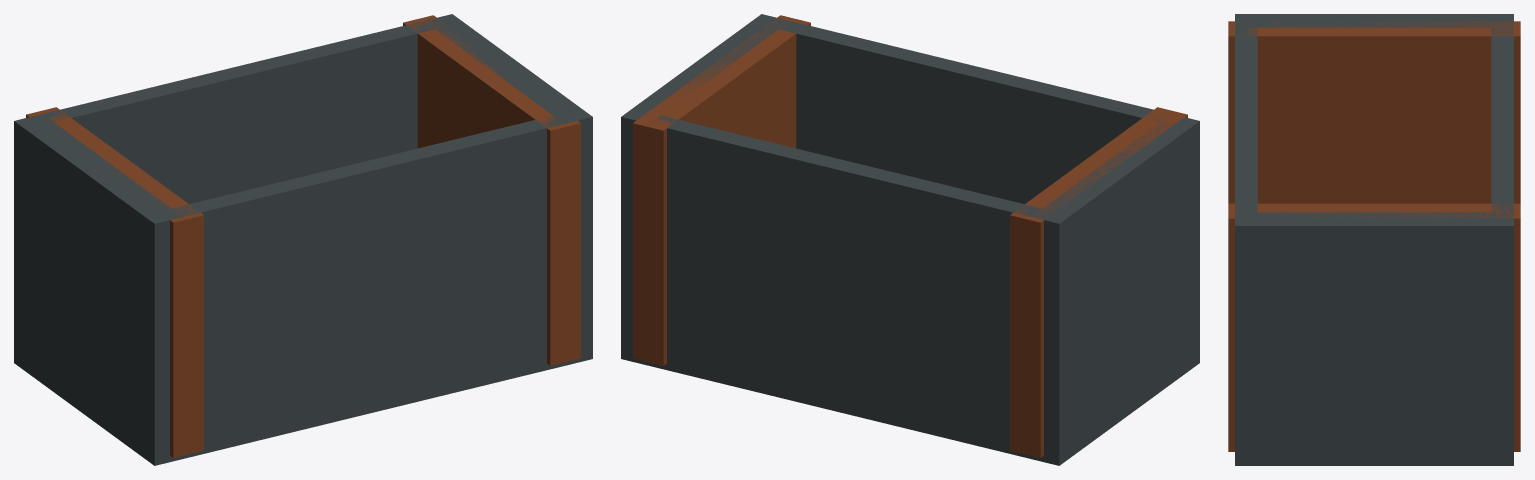
Rendered from CONTAINER_CHEST_BASE_LODs.fbx.
3 renders of one model, left to right at view 1: azimuth 30°, elevation 25°; view 2: azimuth 150°, elevation 25°; view 3: azimuth 270°, elevation 25°, orthographic.
Visible parts, largest first — view 1: CONTAINER_CHEST_BASE_LOD0; view 2: CONTAINER_CHEST_BASE_LOD0; view 3: CONTAINER_CHEST_BASE_LOD0.
Part boxes in pixels (box(x1,y1,x2,y2)): CONTAINER_CHEST_BASE_LOD0: box(14, 14, 592, 465); CONTAINER_CHEST_BASE_LOD0: box(621, 14, 1199, 465); CONTAINER_CHEST_BASE_LOD0: box(1228, 14, 1520, 465).
Size of what is drawn, in the model's own units: 0.72 by 0.38 by 0.42.
